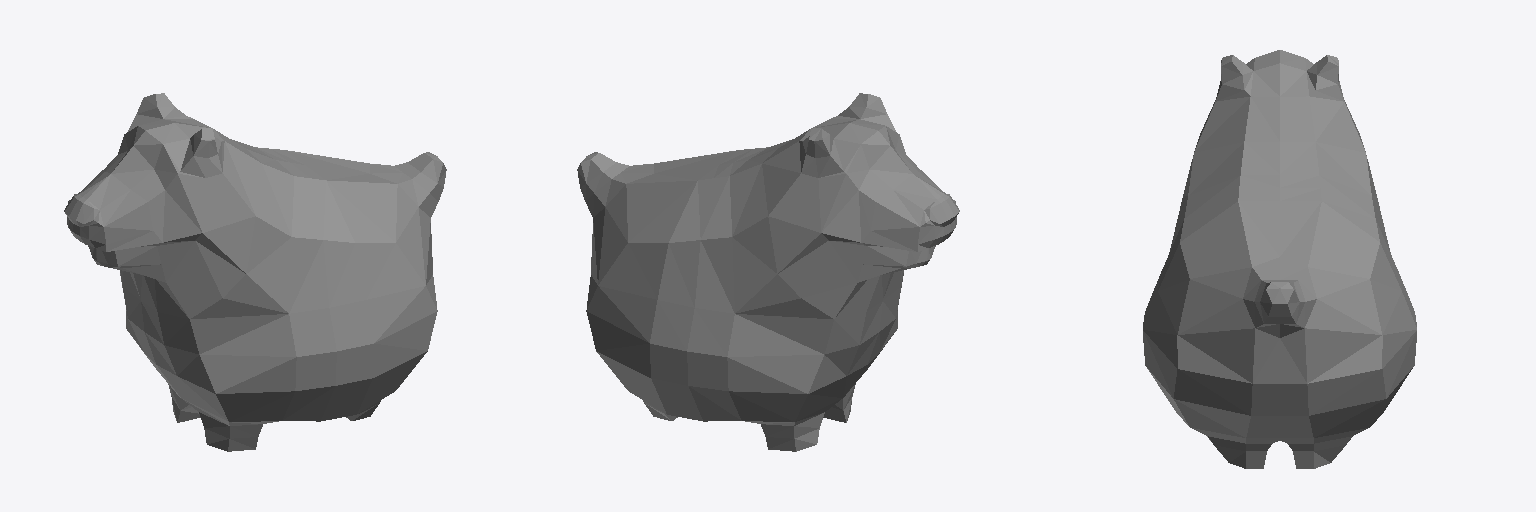
File: LH_Dog_00.obj
The picture shows the model from 3 angles: view 1: azimuth 30°, elevation 25°; view 2: azimuth 150°, elevation 25°; view 3: azimuth 270°, elevation 25°; orthographic projection.
Parts seen in each view (by area): view 1: Sphere001; view 2: Sphere001; view 3: Sphere001.
Boxes of the visible parts, x1,y1,x2,y2 form: Sphere001: [64, 93, 446, 451]; Sphere001: [577, 93, 959, 451]; Sphere001: [1143, 50, 1416, 468].
Bounding box in the file's own units: 1.1 × 0.9161 × 0.6972.